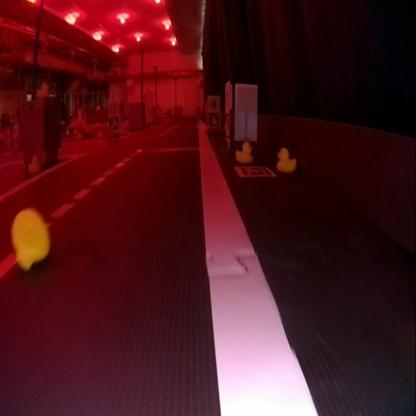Duckie: (12, 207, 50, 268), (276, 146, 297, 172), (235, 140, 252, 162)
Intersection sign: (208, 96, 219, 110)
QR code: (234, 165, 275, 177), (208, 112, 220, 126)
